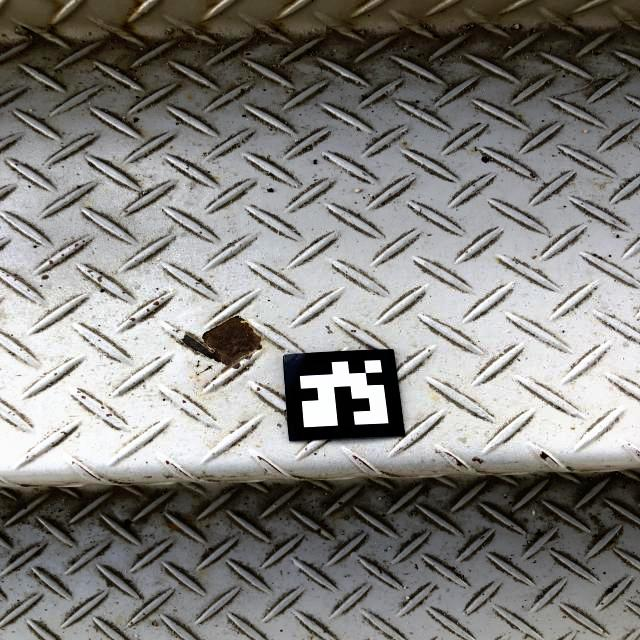Corrosion: (160, 316, 261, 366)
